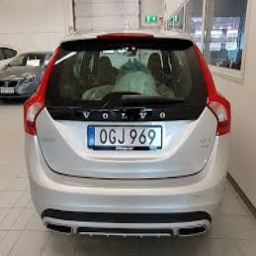sv_licence_plate: (85, 124, 162, 149)
